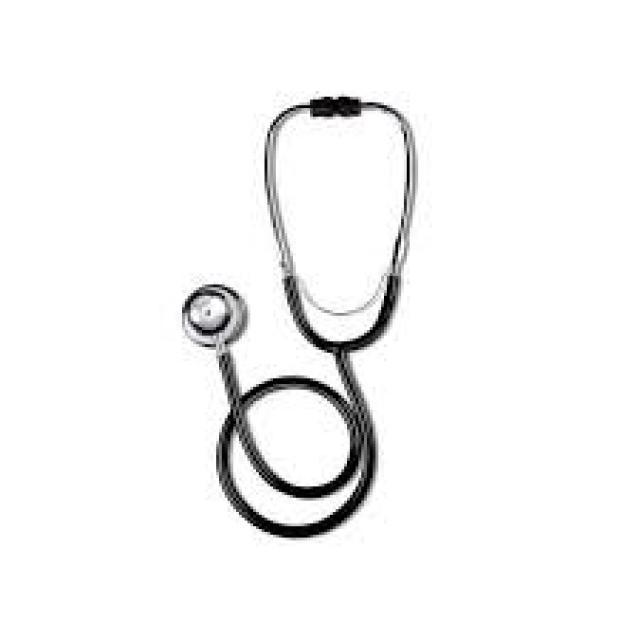stethoscope: (168, 94, 427, 566)
